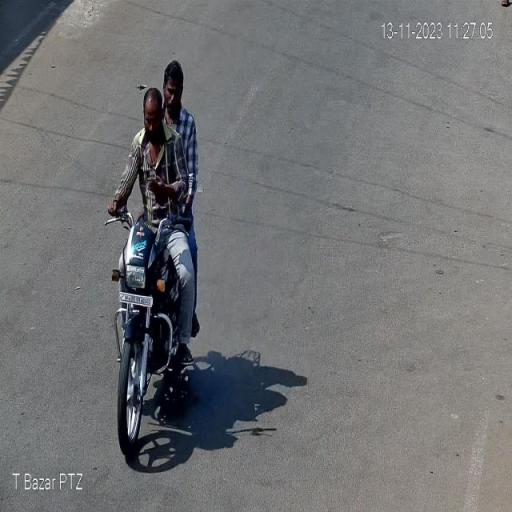using mobile: (144, 166, 166, 193)
